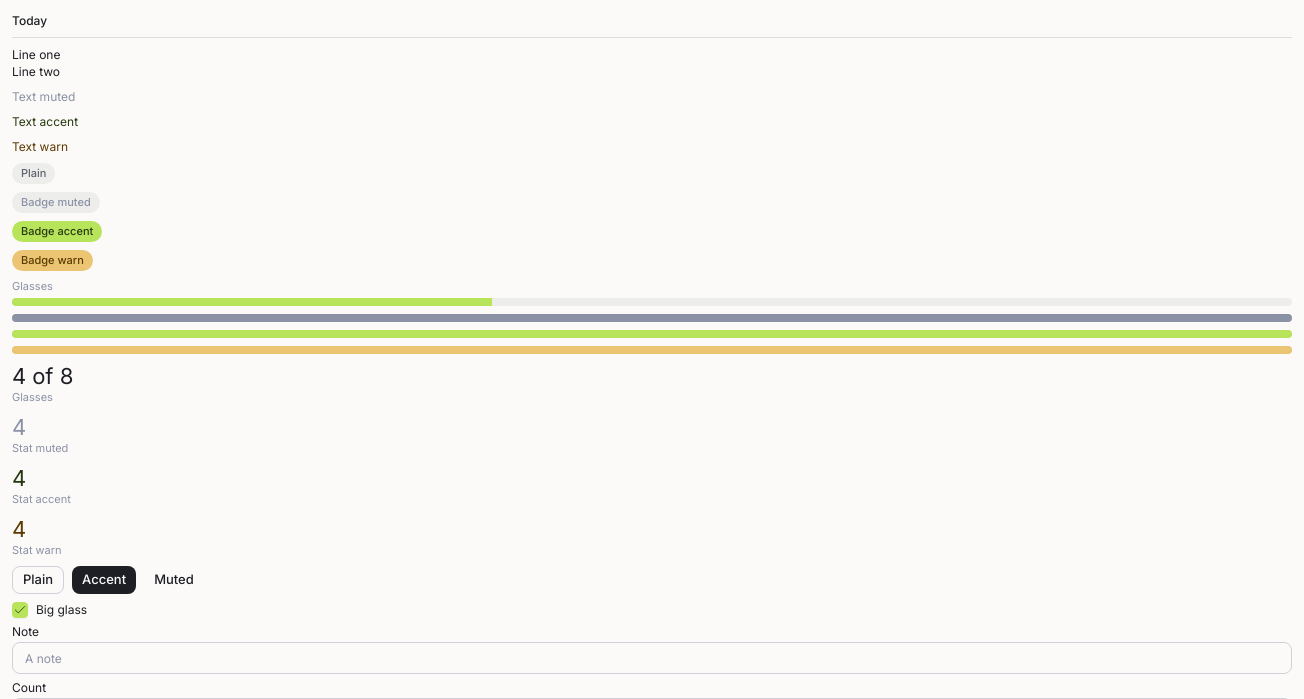
Test: ModTree: fields › refuses a value shaped like a key inline, and sends nothing
Type "sk-abcdefghijklmnop" into the field labelled "Note".
click(652, 658); type("sk-abcdefghijklmnop")  # box [12,642,1292,674]
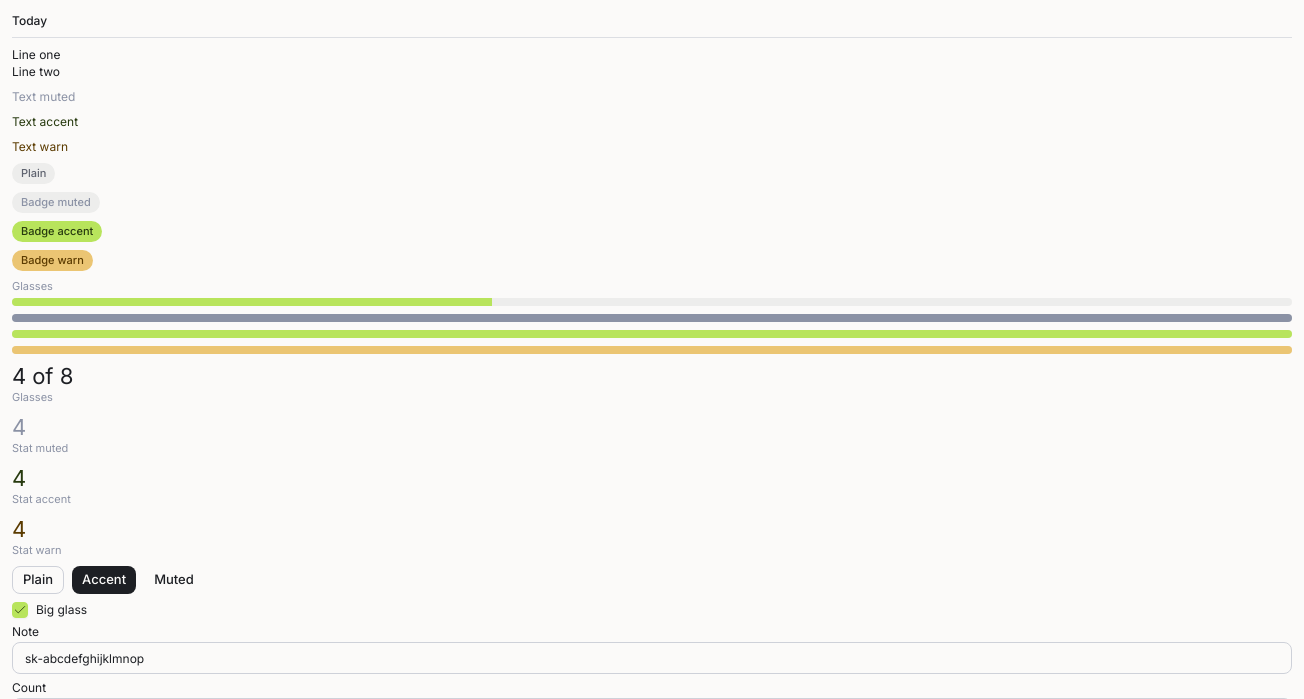
Leave the field labelled "Note", box [12,642,1292,674]
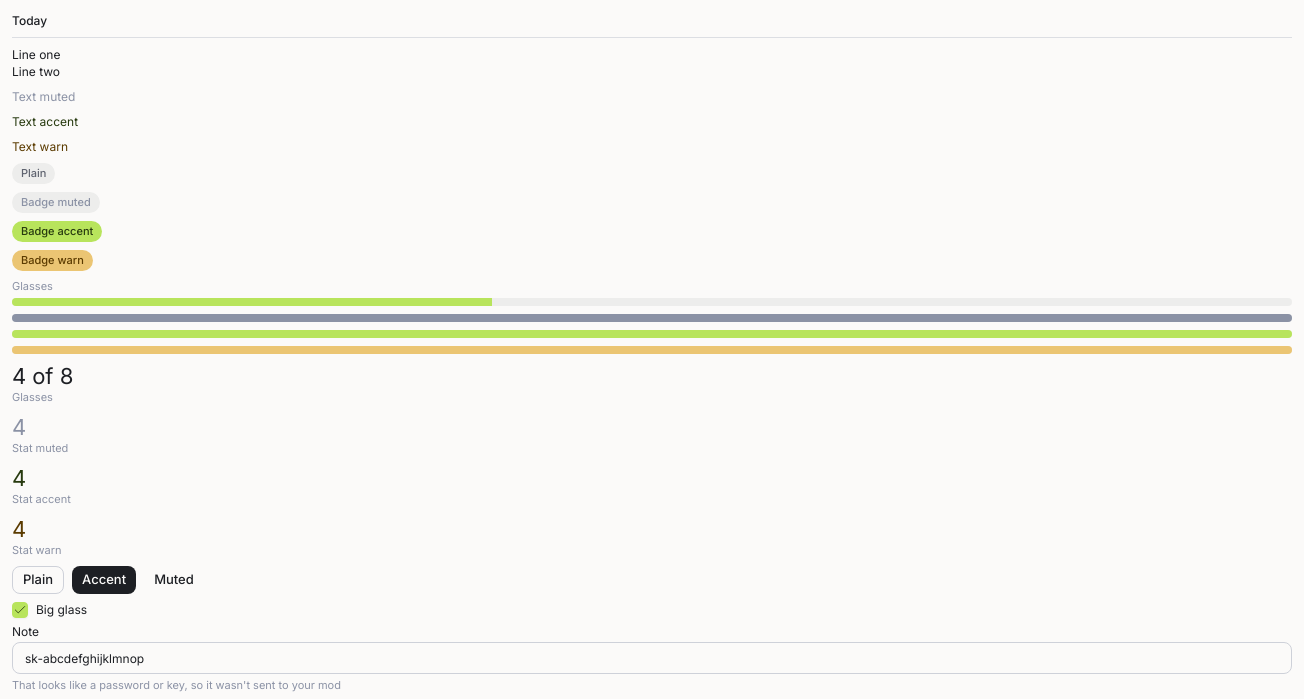
Expected: the text "That looks like a password or key, so it wasn't sent to your mod" is shown, [12,678,341,692]
